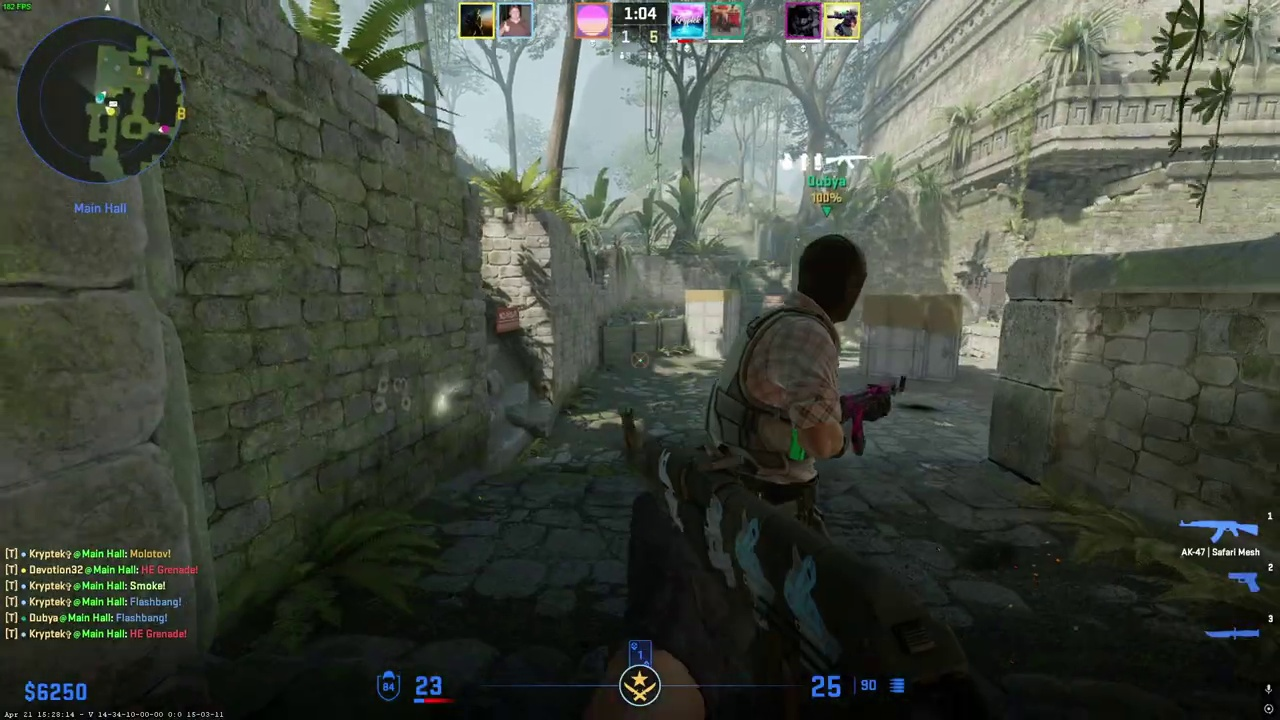Terrorist: (704, 234, 877, 521)
